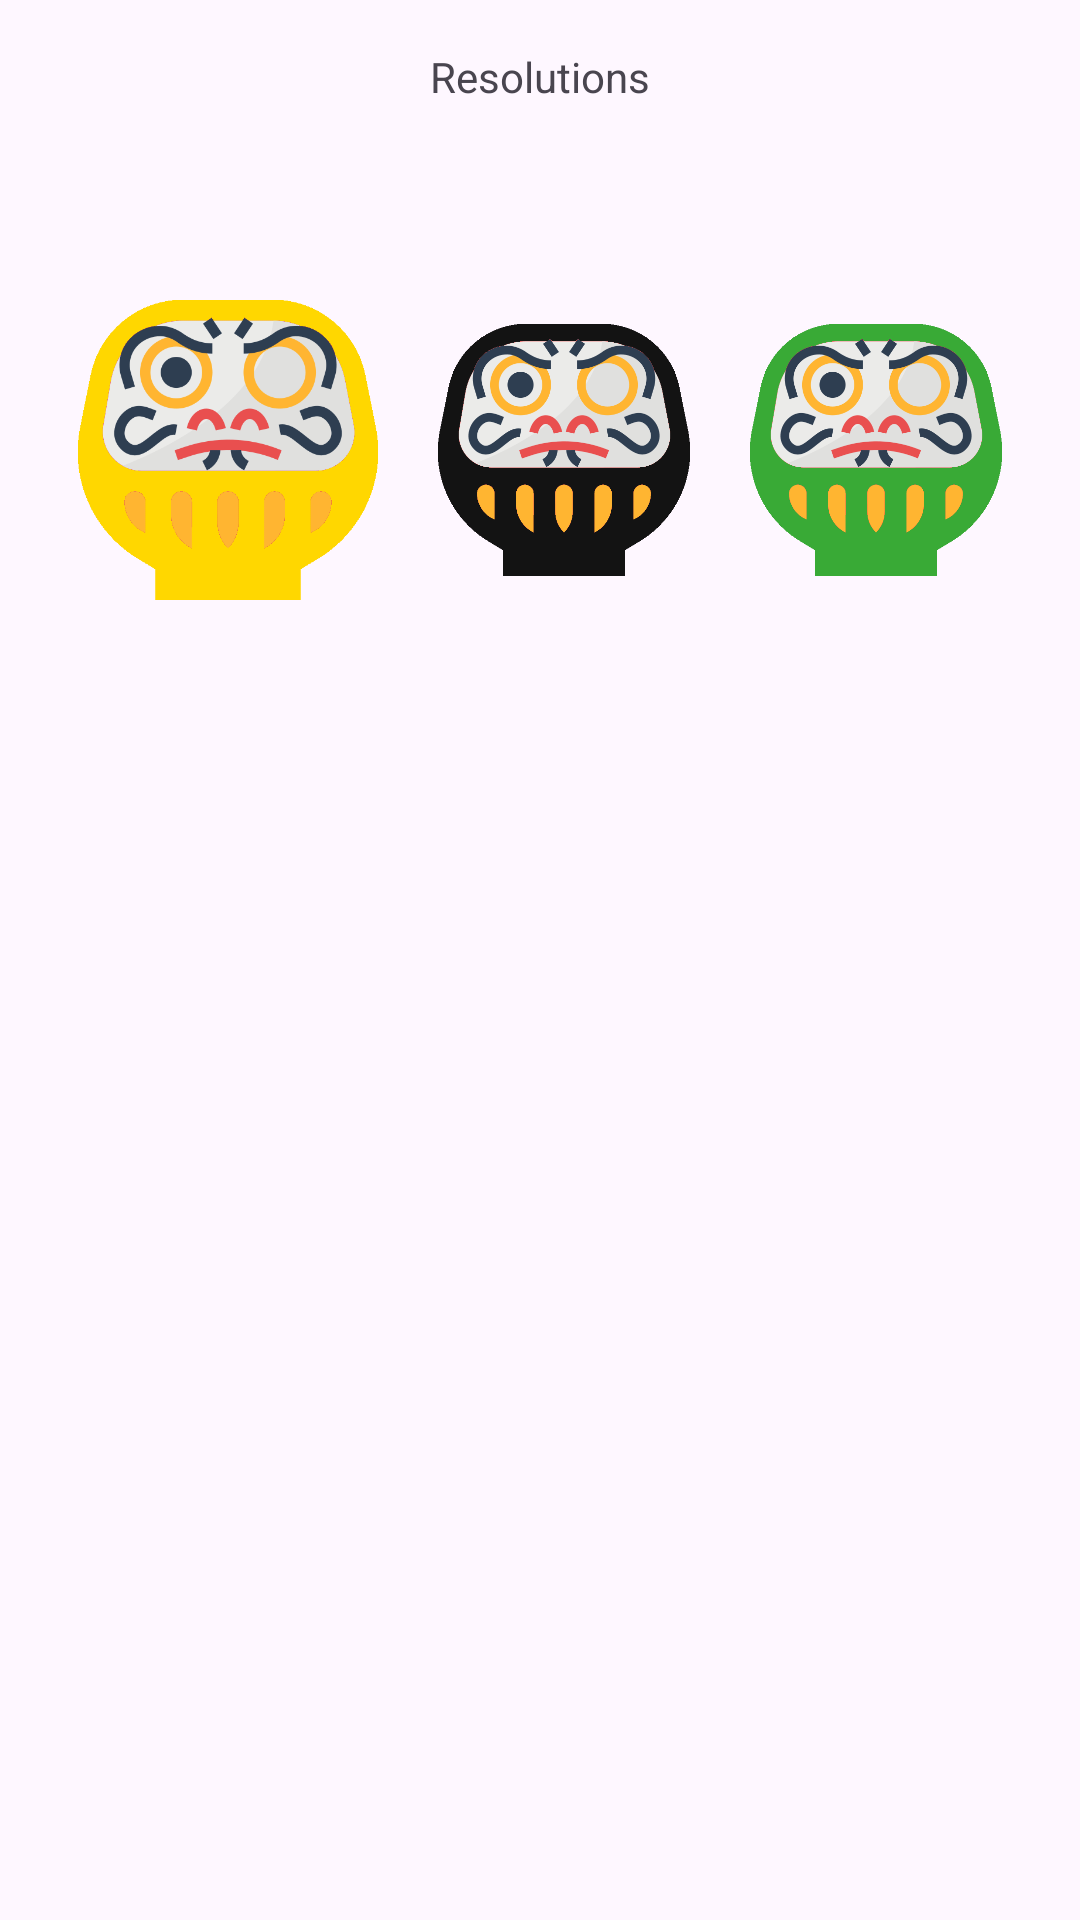

Icon bounding boxes for this 1080*1920 phone screenshot, format detection(x1, y1, x2, y2):
black daruma: detection(438, 324, 690, 576)
gold daruma: detection(78, 300, 378, 600)
green daruma: detection(750, 324, 1002, 576)
